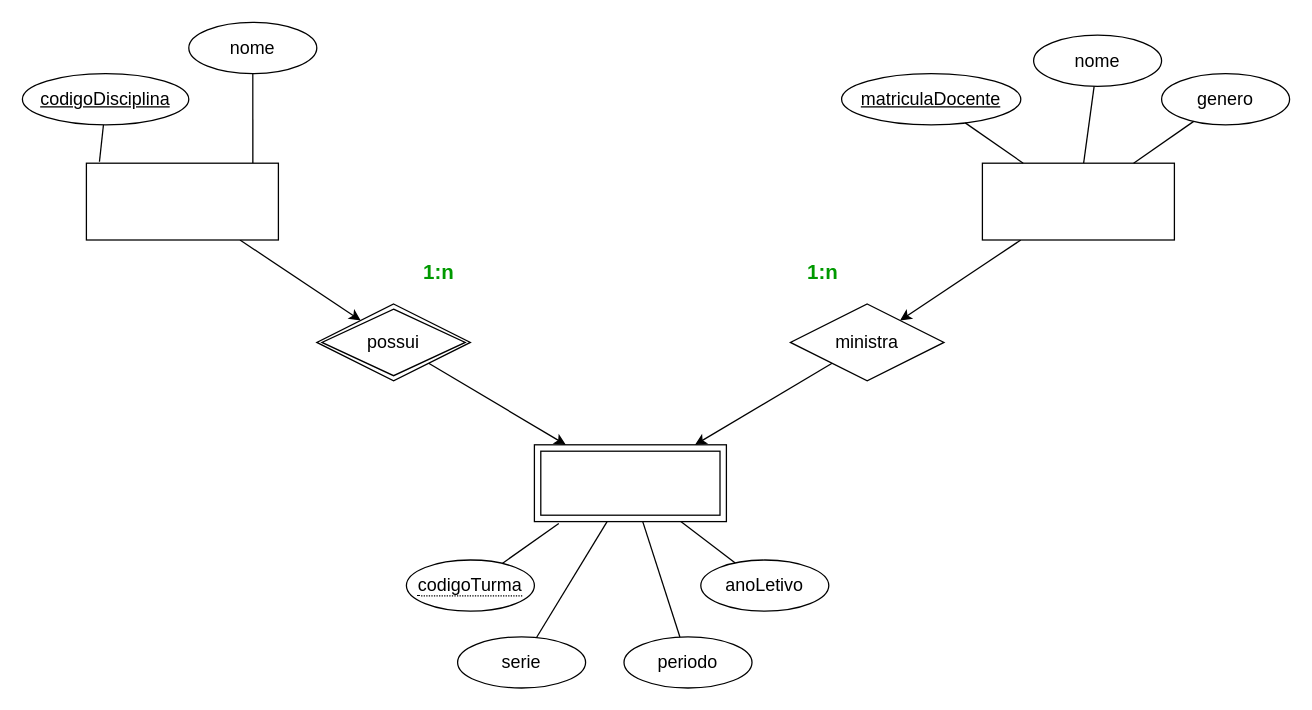
Image size: 1312x710. Some labels were removed from this diagram. Here are the shapes that lost their labels. From the top down, the centre of each, then its label:
point (181, 201): DISCIPLINA
point (1077, 201): DOCENTE
point (629, 483): TURMA
